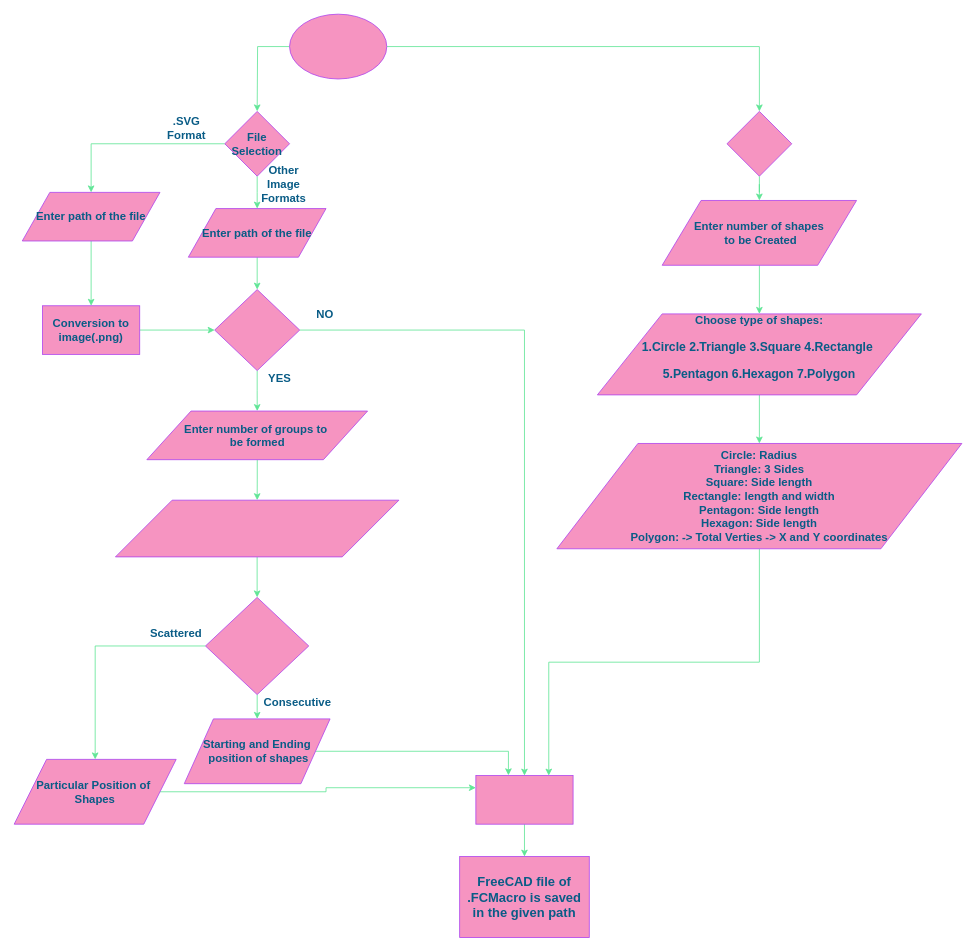
Some shapes in this 976 by 952 pixel diagram are drawn without their labels. Each missing label, with the centre of its shape:
Enter number of shapes in each group: pixel 257 528
Length and Width of Sheet: pixel 338 46
NESTING: pixel 524 799
Option for Grouping: pixel 257 330
Shape Creation: pixel 759 143
Type of group: pixel 257 646
